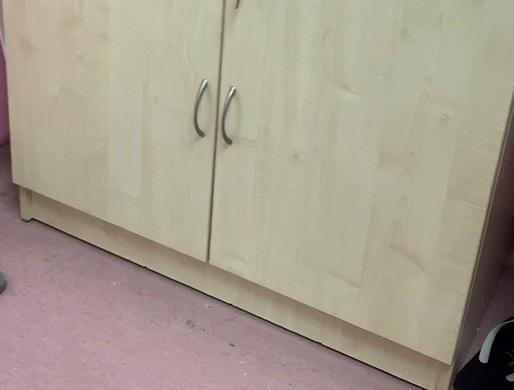cabinet_door: (217, 0, 514, 304), (4, 0, 212, 229)
handle: (188, 80, 210, 141), (219, 86, 240, 149)
